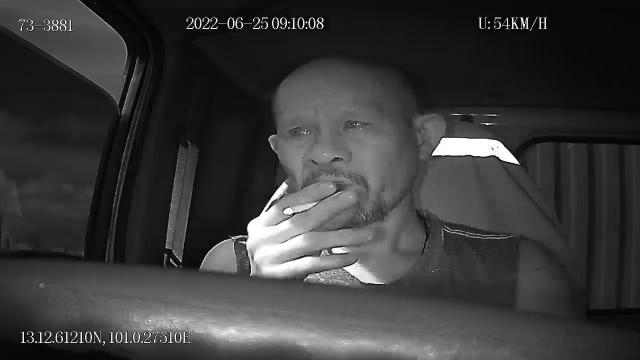SafeDriving: (334, 109, 379, 139), (278, 118, 319, 144)
Smoking: (282, 200, 321, 216)
